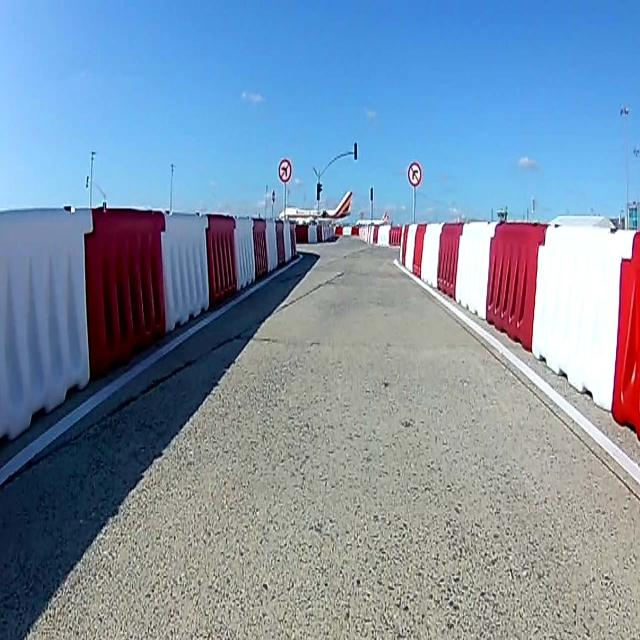sagadonulmez: (408, 160, 422, 186)
soladonulmez: (278, 159, 290, 181)
